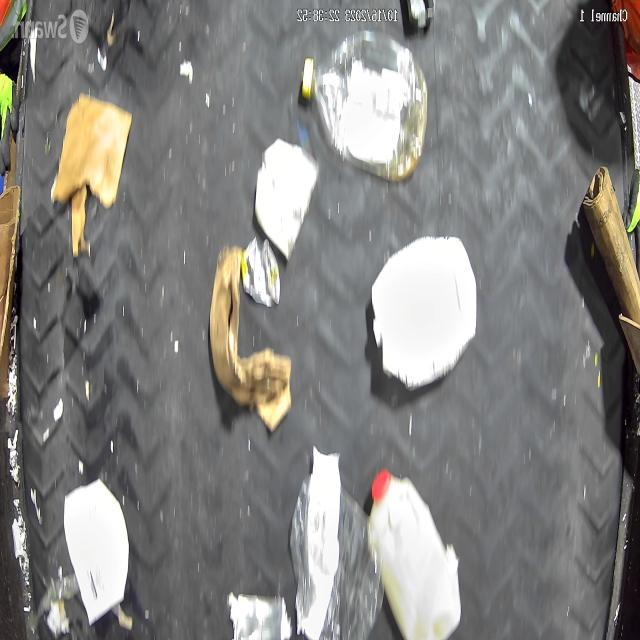can: (241, 236, 282, 308)
milk_jug: (370, 232, 478, 390), (366, 464, 460, 640)
plastic_bottle: (300, 34, 427, 182)
